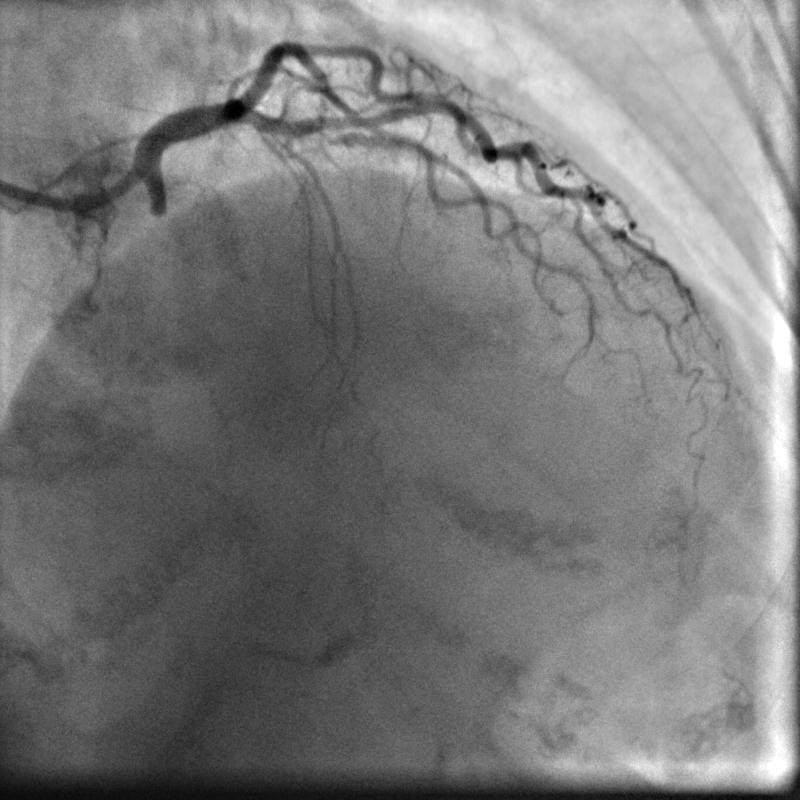Stenosis: (324, 130, 349, 146)
